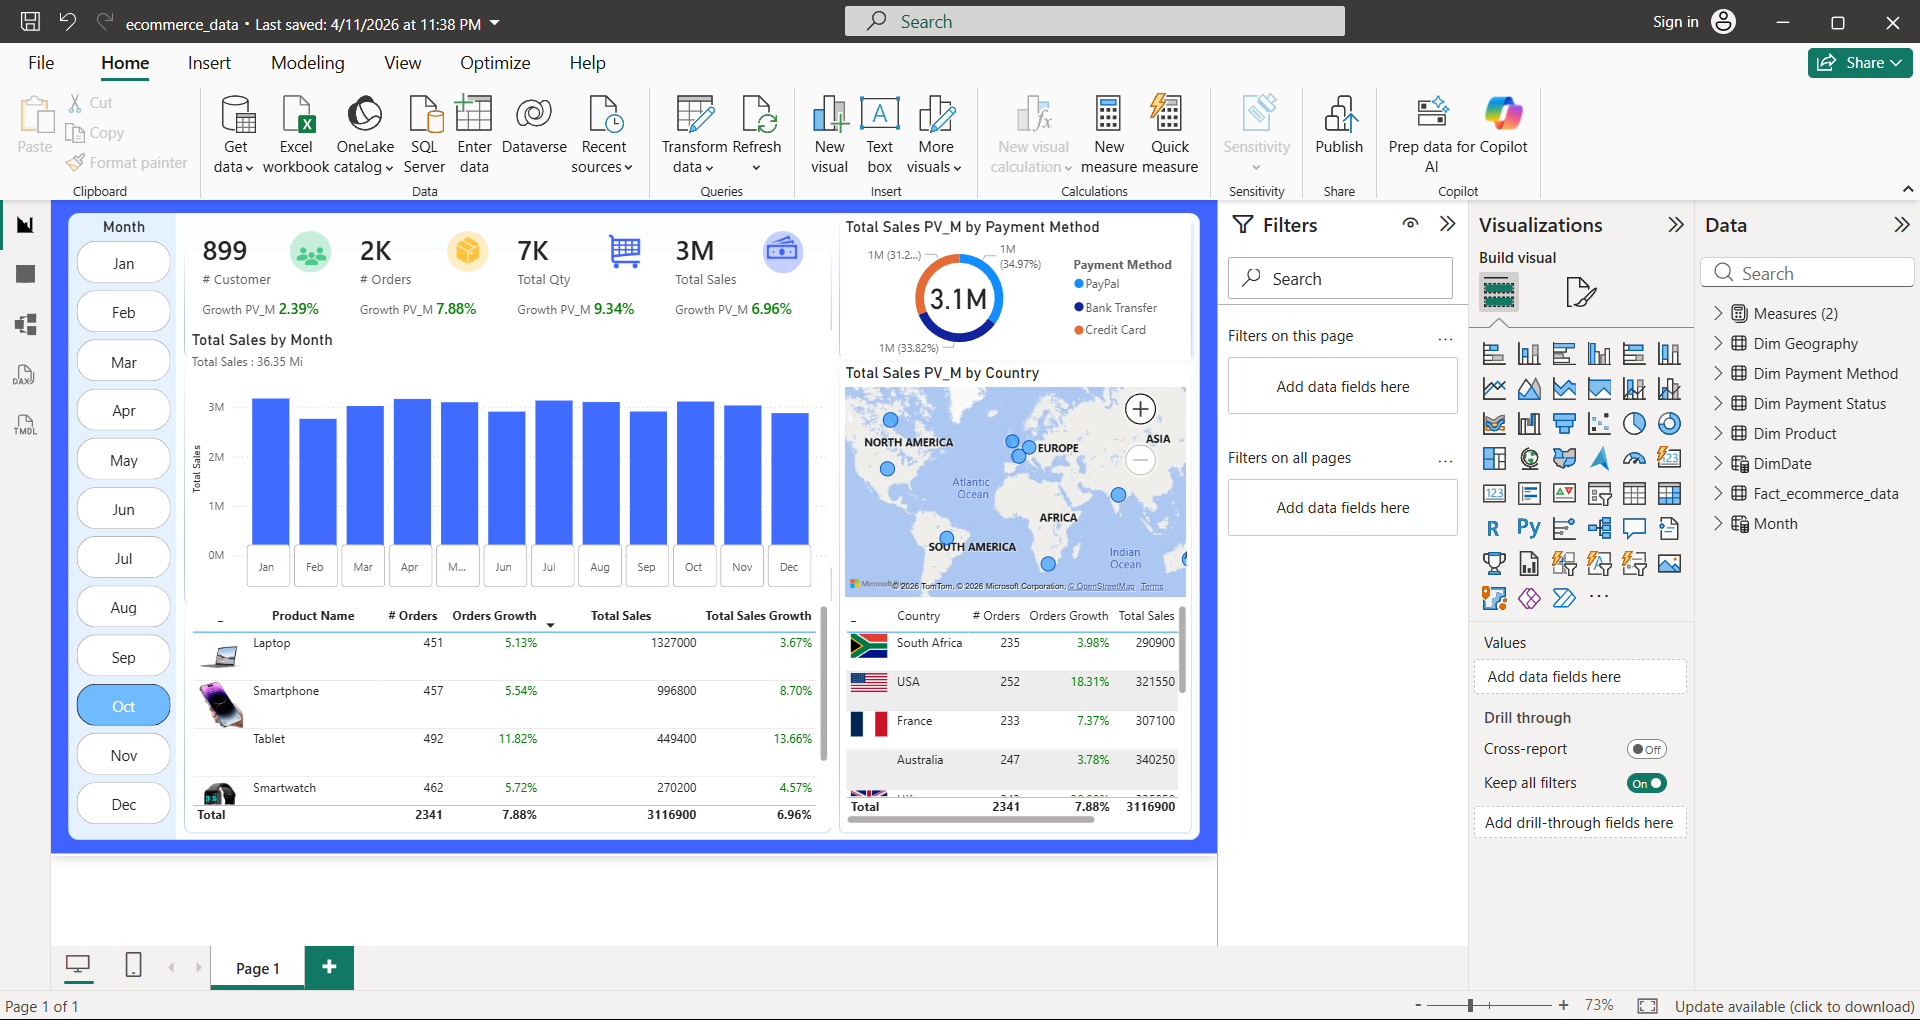

Layout of this report page (visuals, bound fields, positions):
{"tool":"powerbi","page":{"name":"Page 1","canvas":[1280,720],"ordinal":0},"visuals":[{"type":"advancedSlicerVisual","fields":{"Values":["DimDate.Month"]},"box":[23.3,19.2,113.9,671],"z":0},{"type":"cardVisual","fields":{"Data":["Measures (2).# Customer","Measures (2).# Orders","Measures (2).Total Quantity","Measures (2).Total Sales"]},"box":[137.2,16.5,720.4,159.2],"z":1000},{"type":"clusteredColumnChart","fields":{"Y":["Measures (2).Total Sales"],"Category":["DimDate.Month"]},"box":[149.3,142,708.7,260.9],"z":2000},{"type":"donutChart","fields":{"Y":["Measures (2).Total Sales PV_M"],"Category":["Dim Payment Method.Payment Method"]},"box":[867.2,19.2,384.2,156.4],"z":3000},{"type":"card","fields":{"Values":["Measures (2).Total Sales"]},"box":[898.8,49.4,194.9,115.3],"z":4000},{"type":"tableEx","fields":{"Values":["Dim Product.Img","Dim Product.Product Name","Measures (2).# Orders","Measures (2).Orders Growth","Measures (2).Total Sales","Measures (2).Total Sales Growth"]},"box":[150,441,708,249],"z":5000},{"type":"map","fields":{"Category":["Dim Geography.Country"],"Size":["Measures (2).Total Sales PV_M"]},"box":[867,180,384,261],"z":6000},{"type":"tableEx","fields":{"Values":["Dim Geography.Img","Dim Geography.Country","Measures (2).# Orders","Measures (2).Orders Growth","Measures (2).Total Sales","Measures (2).Total Sales Growth"]},"box":[867,441,384,249],"z":7000},{"type":"advancedSlicerVisual","fields":{"Values":["Month .Month "]},"box":[210.1,373.9,633.3,58],"z":8000}]}

Visuals, with their boxes on the page's 1280x720 design canvas (x1, y1, x2, y2). These are canvas units, not pixel positions in the 1920x1020 screenshot, which may show the page scaled, cropped or inside an application window:
advancedSlicerVisual - DimDate.Month: <box>23,19,137,690</box>
cardVisual - Measures (2).# Customer x Measures (2).# Orders: <box>137,16,858,176</box>
clusteredColumnChart - Measures (2).Total Sales x DimDate.Month: <box>149,142,858,403</box>
donutChart - Measures (2).Total Sales PV_M x Dim Payment Method.Payment Method: <box>867,19,1251,176</box>
card - Measures (2).Total Sales: <box>899,49,1094,165</box>
tableEx - Dim Product.Img x Dim Product.Product Name: <box>150,441,858,690</box>
map - Dim Geography.Country x Measures (2).Total Sales PV_M: <box>867,180,1251,441</box>
tableEx - Dim Geography.Img x Dim Geography.Country: <box>867,441,1251,690</box>
advancedSlicerVisual - Month .Month : <box>210,374,843,432</box>
